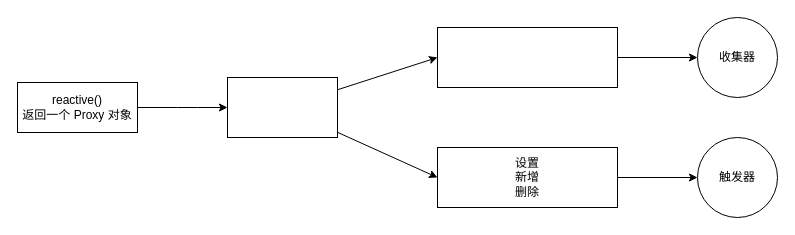
Some shapes in this 795 by 235 pixel diagram are drawn without their labels. The centre of each missing label's shape, as x and y in pixels:
Proxy 的实现 对属性操作的拦截: the point at 282,107
读取（递归调用 reactive()） in 操作符 对象遍历: the point at 527,57
